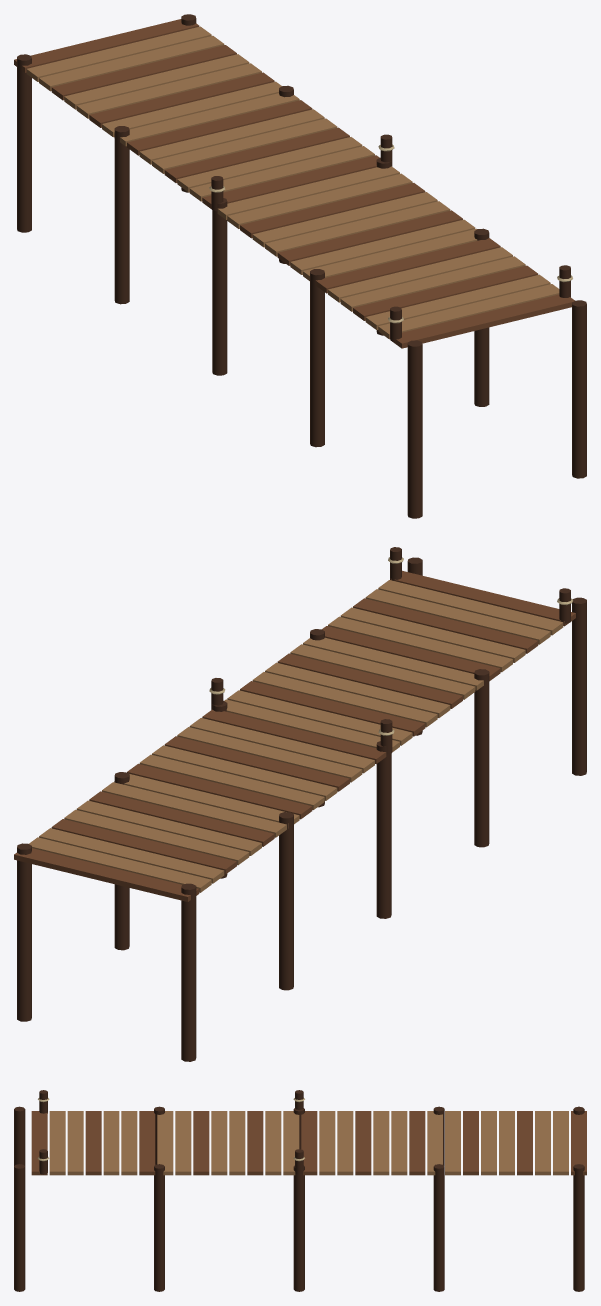
The model's file is dock.glb.
3 views of the same model, one above another, from view 1: azimuth 30°, elevation 25°; view 2: azimuth 150°, elevation 25°; view 3: azimuth 270°, elevation 25° (orthographic). The views are drawn at different scales.
Visible parts, largest first — view 1: Dock; view 2: Dock; view 3: Dock.
Boxes of the visible parts, left/top/right/bottom form: Dock: left=14, top=14, right=586, bottom=518; Dock: left=14, top=547, right=586, bottom=1061; Dock: left=14, top=1090, right=586, bottom=1291.
Size of what is drawn, in the model's own units: 3.8 by 3.85 by 14.34.
